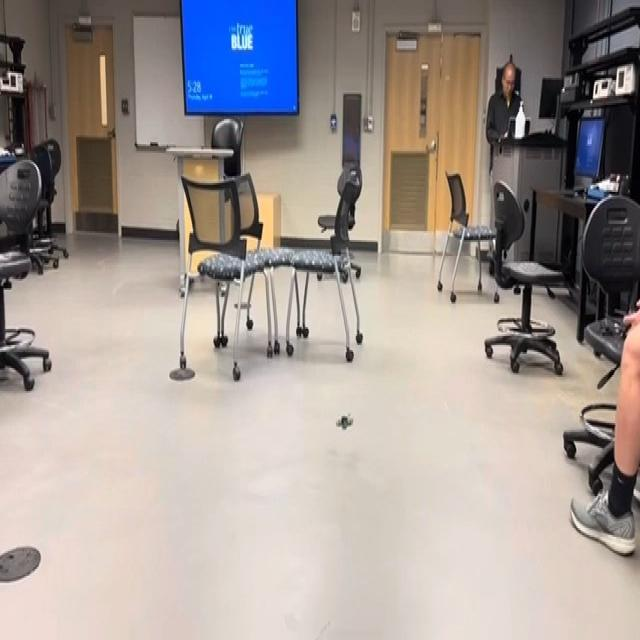drone: (326, 390, 366, 451)
